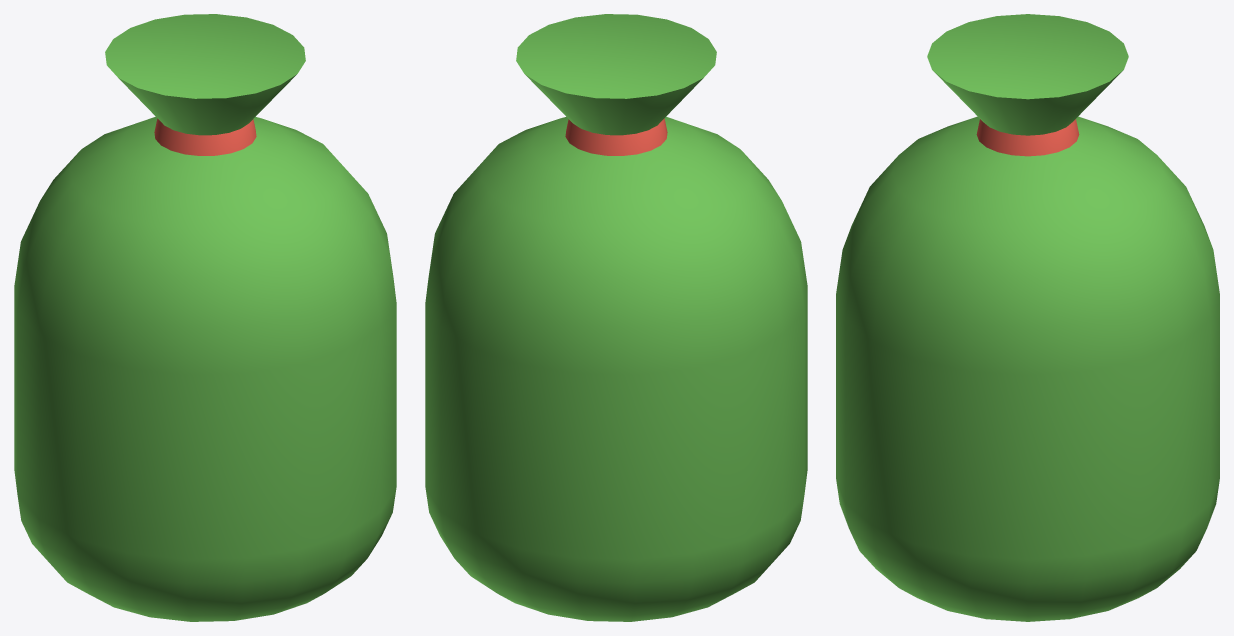
File: Bag cash.fbx
The picture shows the model from 3 angles, left to right: view 1: azimuth 30°, elevation 25°; view 2: azimuth 150°, elevation 25°; view 3: azimuth 270°, elevation 25°; orthographic projection.
Visible parts, largest first — view 1: Bag cash; view 2: Bag cash; view 3: Bag cash.
Boxes of the visible parts, x1,y1,x2,y2 form: Bag cash: (14,14,396,621); Bag cash: (425,14,807,621); Bag cash: (836,14,1219,621).
Bounding box in the file's own units: 0.4529 × 0.678 × 0.4529.
